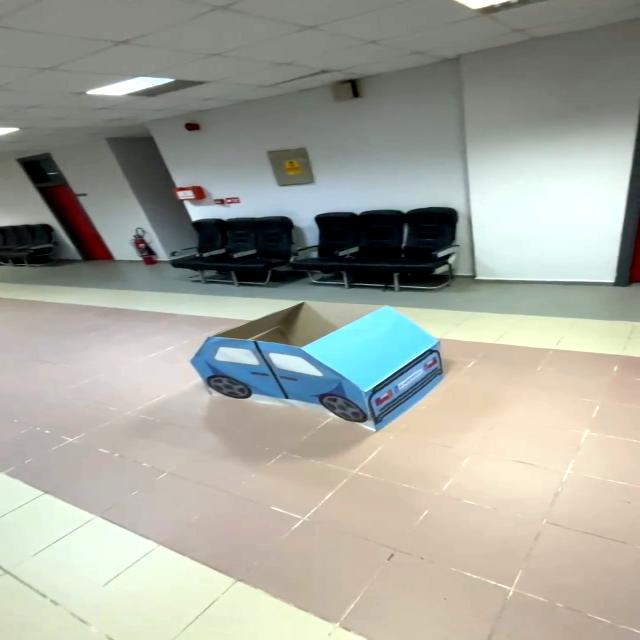blue_car: (173, 296, 460, 435)
